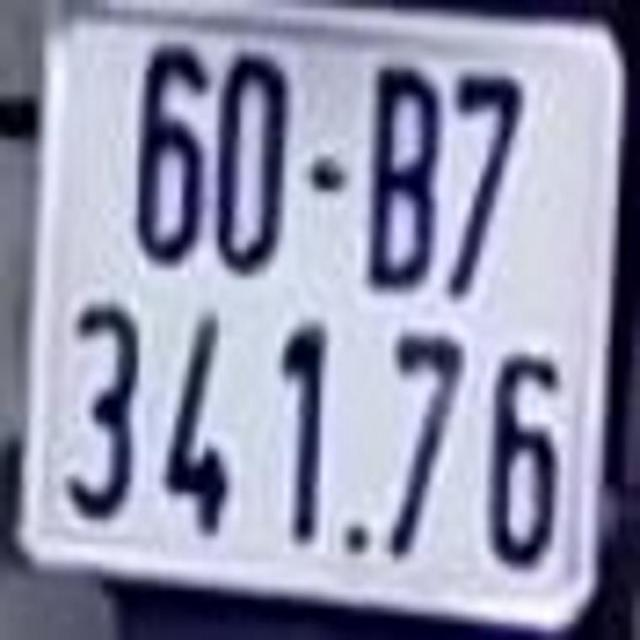0: (218, 49, 285, 280)
1: (278, 317, 324, 552)
3: (69, 292, 142, 524)
4: (162, 306, 236, 536)
6: (484, 340, 576, 580), (132, 43, 206, 271)
7: (443, 68, 525, 308), (392, 326, 455, 566)
B: (364, 66, 437, 289)
